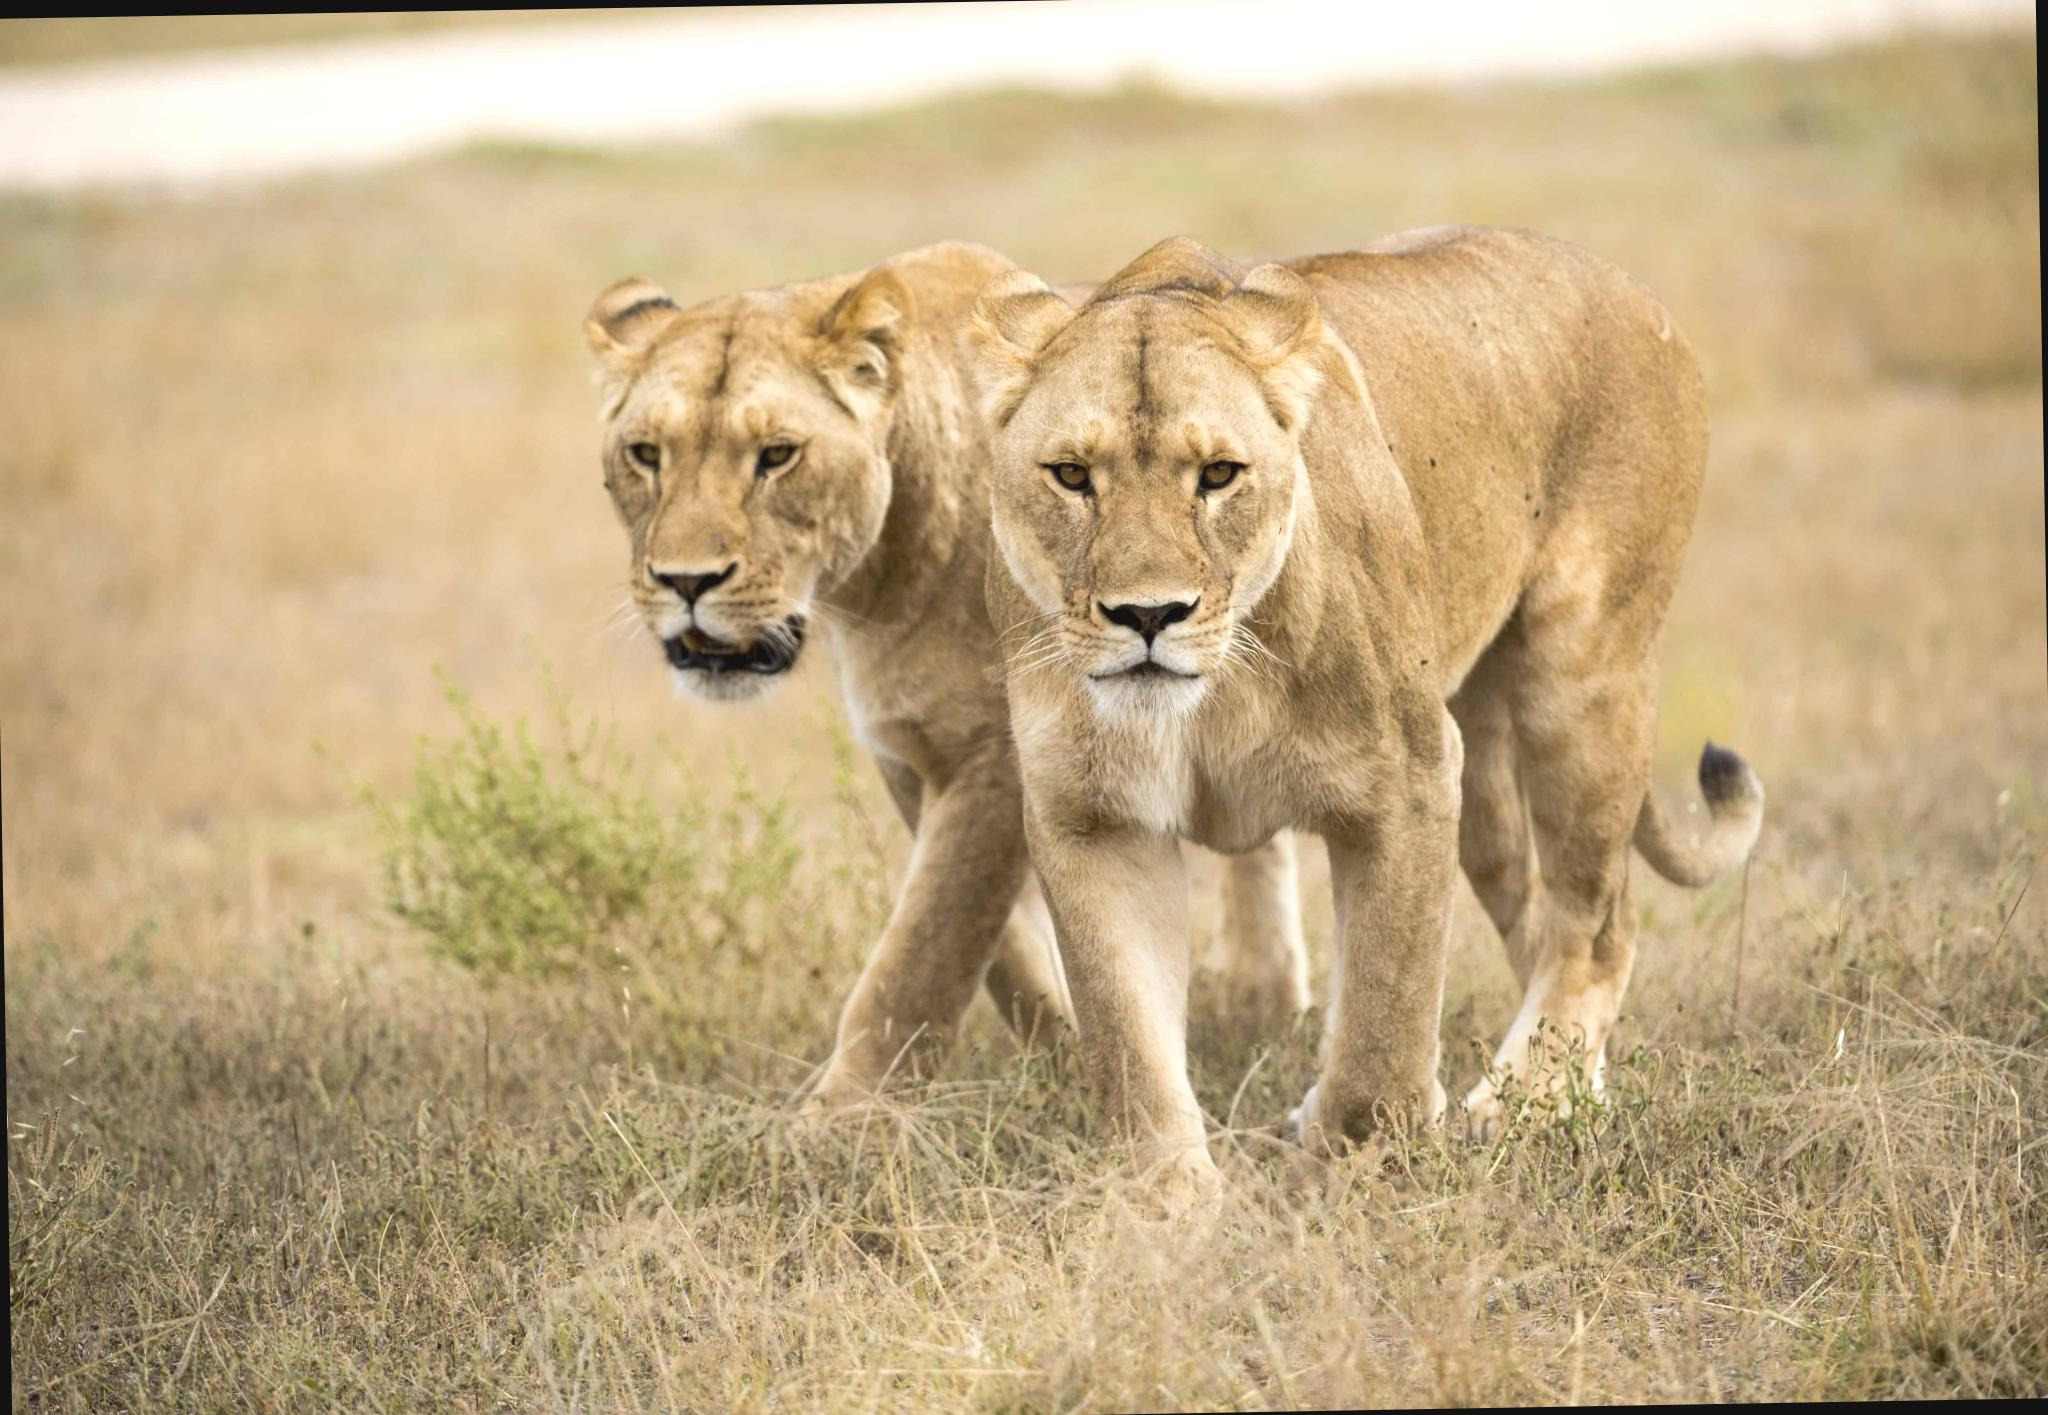lions: (451, 98, 1892, 1208)
